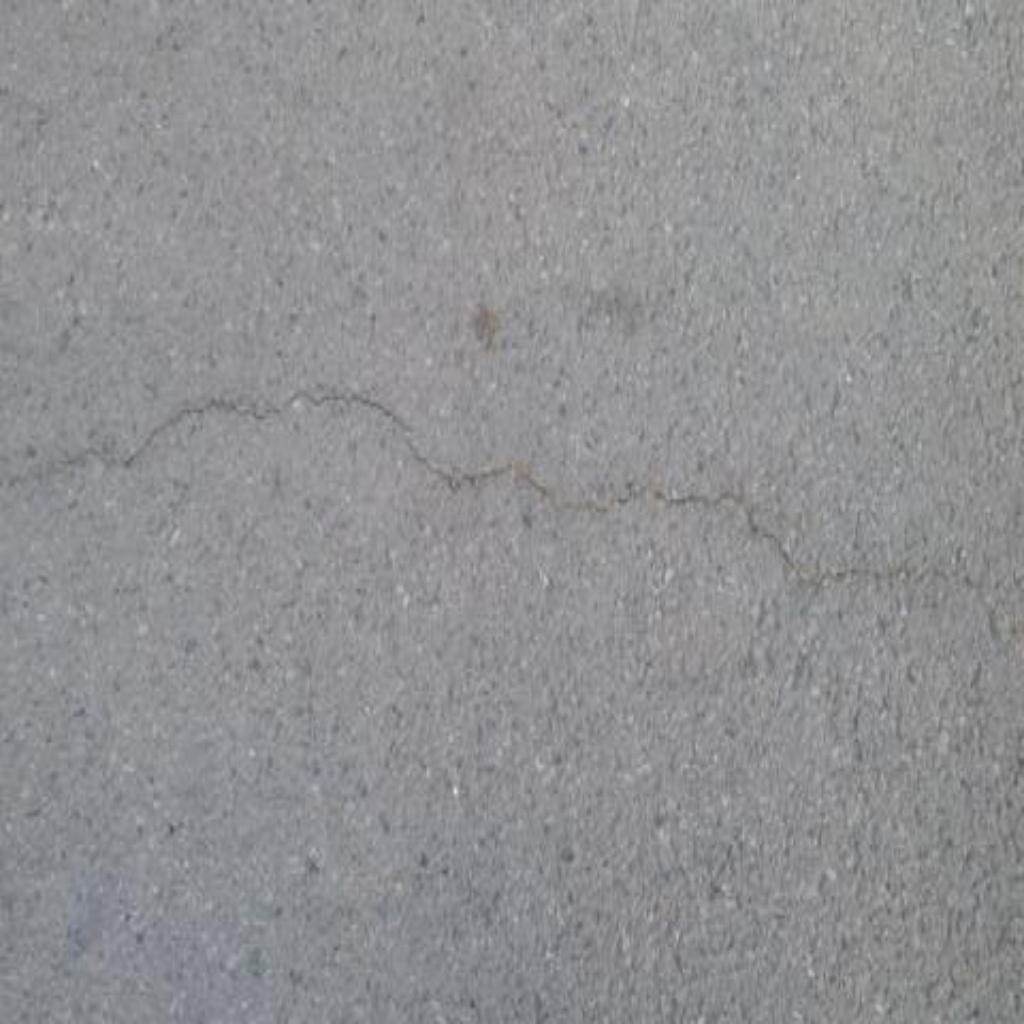Crack: (1, 393, 1024, 594)
